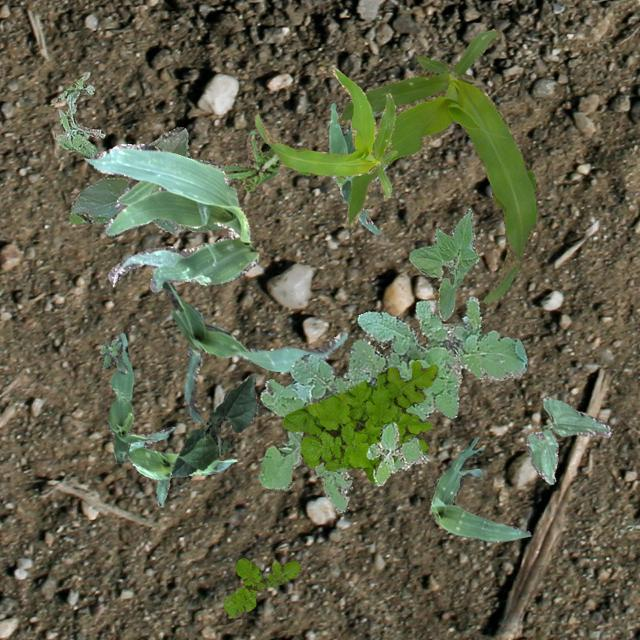crop: (336, 28, 536, 304), (160, 281, 347, 421), (84, 142, 258, 290), (254, 66, 396, 198), (68, 125, 224, 232), (430, 438, 530, 540), (170, 374, 258, 478), (127, 426, 236, 506), (106, 332, 168, 462), (327, 102, 388, 234), (408, 208, 478, 320), (524, 396, 610, 484)
weed: (258, 296, 526, 512), (280, 360, 436, 482), (222, 556, 302, 616), (52, 70, 104, 156), (366, 420, 428, 486), (220, 130, 278, 192), (100, 337, 126, 372)
